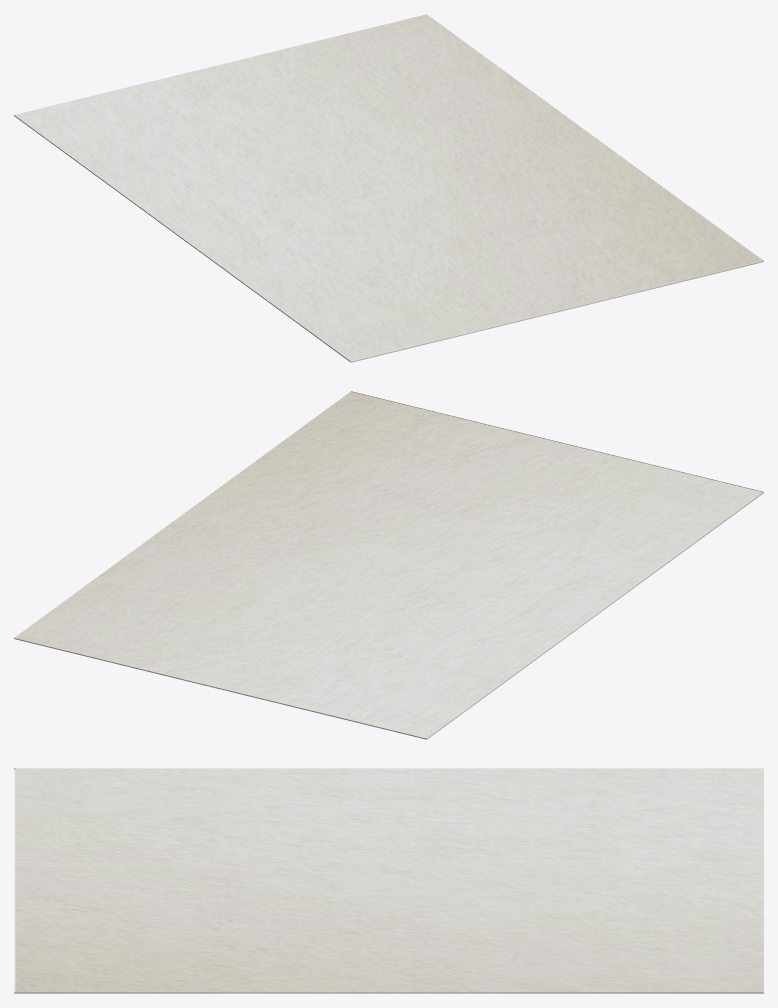
Rendered from Paper_sheet_white.FBX.
The picture shows the model from 3 angles, top to bottom: view 1: azimuth 30°, elevation 25°; view 2: azimuth 150°, elevation 25°; view 3: azimuth 270°, elevation 25°; orthographic projection. The views are drawn at different scales.
Visible parts, largest first — view 1: Paper_sheet_white; view 2: Paper_sheet_white; view 3: Paper_sheet_white.
Boxes of the visible parts, bbox=[...] form: Paper_sheet_white: bbox=[14, 14, 763, 362]; Paper_sheet_white: bbox=[14, 391, 763, 739]; Paper_sheet_white: bbox=[14, 768, 763, 993].
Size of the model in its own units: 8.27 by 0.0197 by 11.69.
1 material, 1 textured.
